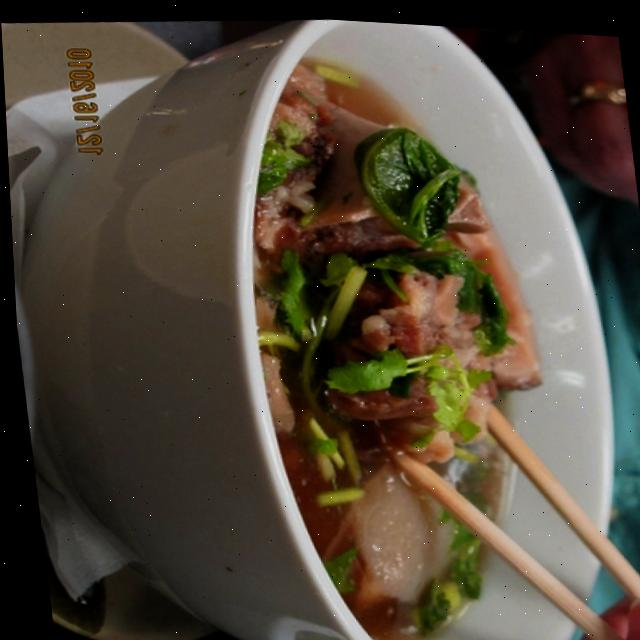汤锅炖物: (73, 3, 640, 640)
